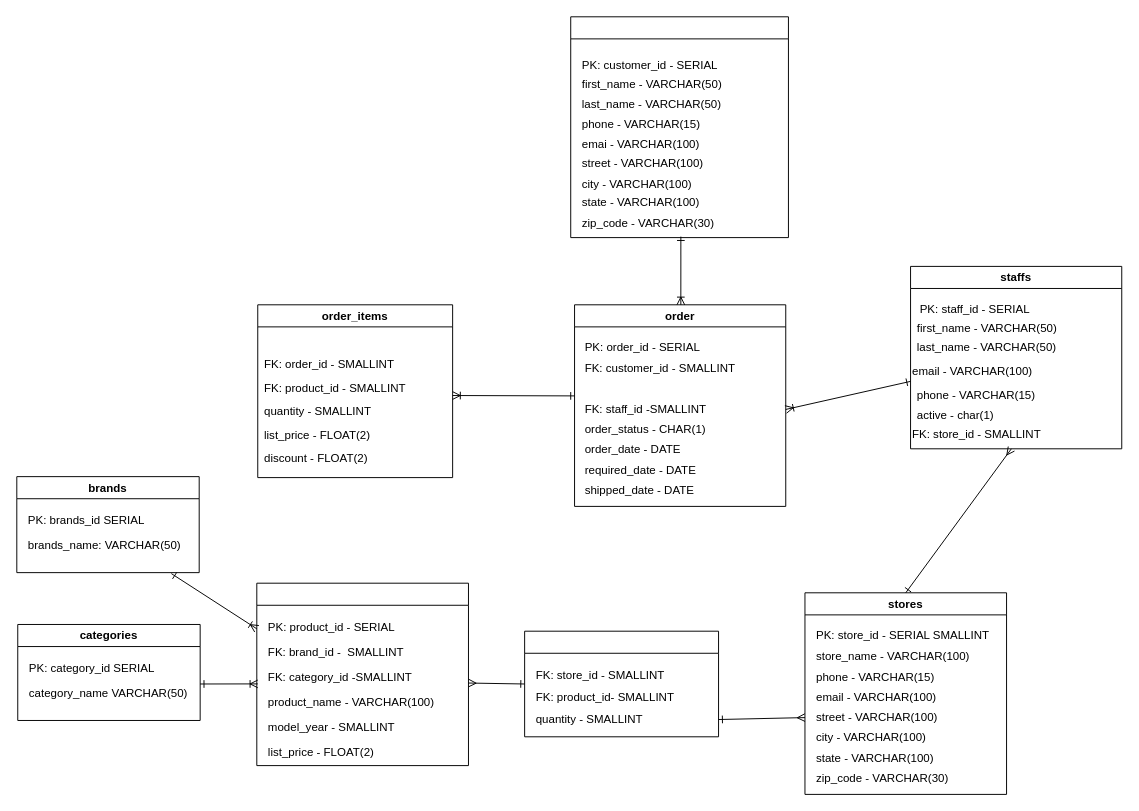
The diagram is 1139 pixels wide and 811 high, and some of its shapes have lost their labels. Here are the shapes that lost their labels. From the top down, the box of each, then its label:
(570, 16, 788, 238): customers
(256, 582, 468, 766): products
(524, 630, 719, 737): stocks
